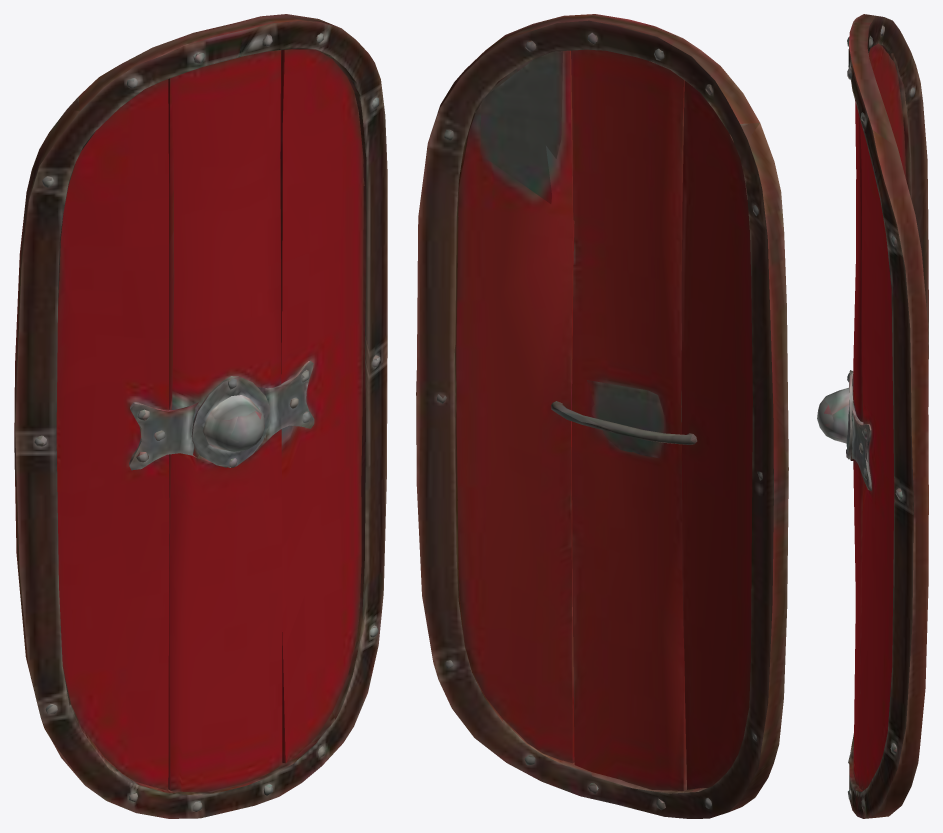
The model's file is gear_roman_scutum_1.glb.
3 renders of one model, left to right at view 1: azimuth 30°, elevation 25°; view 2: azimuth 150°, elevation 25°; view 3: azimuth 270°, elevation 25°, orthographic. The views are drawn at different scales.
Visible parts, largest first — view 1: MeshyGear_gear_roman_scutum; view 2: MeshyGear_gear_roman_scutum; view 3: MeshyGear_gear_roman_scutum.
Boxes of the visible parts, x1,y1,x2,y2 form: MeshyGear_gear_roman_scutum: (14,14,387,818); MeshyGear_gear_roman_scutum: (416,14,788,818); MeshyGear_gear_roman_scutum: (817,14,928,818).
Bounding box in the file's own units: 0.5307 × 1.06 × 0.1436.
Materials: 1 (1 with a texture image).
